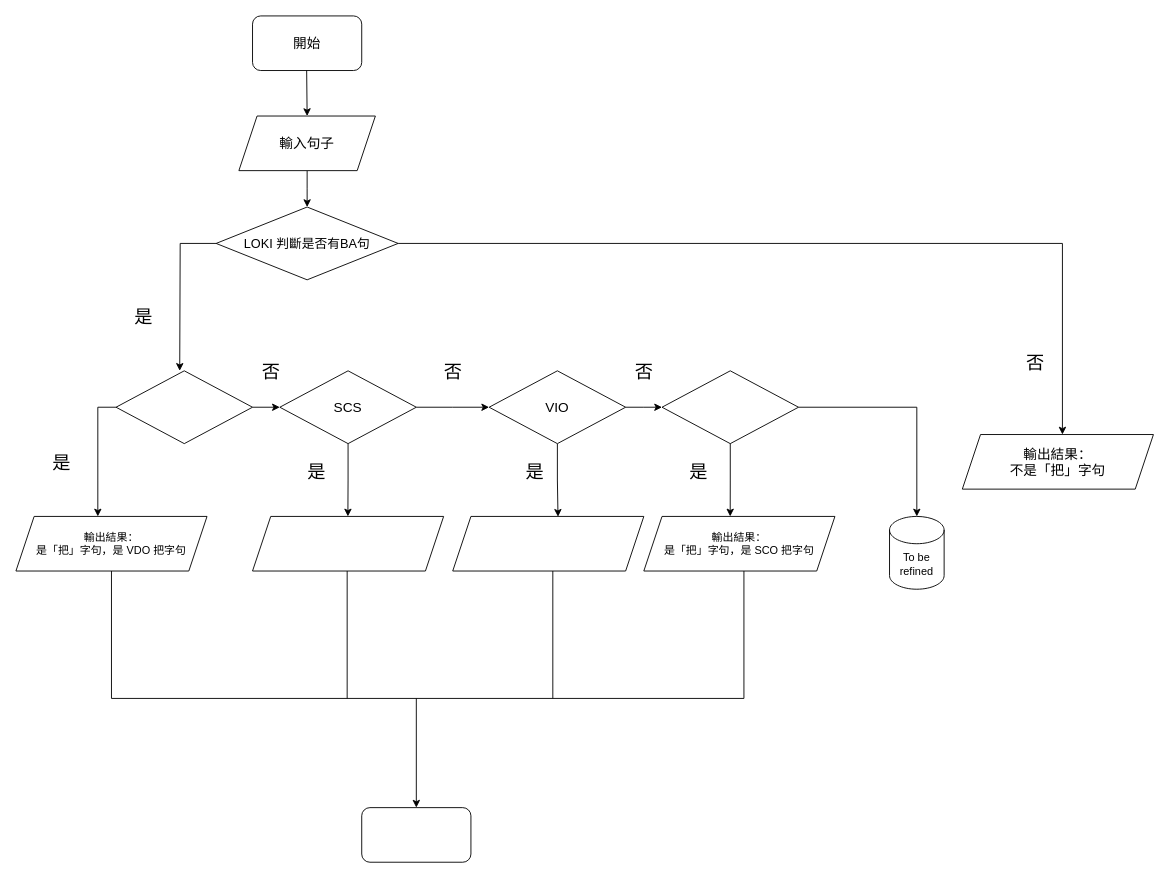
The diagram is 1169 pixels wide and 878 high, and some of its shapes have lost their labels. Each missing label, with the box of its shape:
SCO: (661, 370, 799, 444)
VDO: (115, 370, 253, 444)
結束: (361, 807, 471, 862)
輸出結果： 是「把」字句，是 SCS 把字句: (252, 516, 444, 571)
輸出結果： 是「把」字句，是 VIO 把字句: (452, 516, 644, 571)
